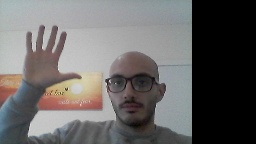Mano_aperta: (19, 22, 84, 92)
